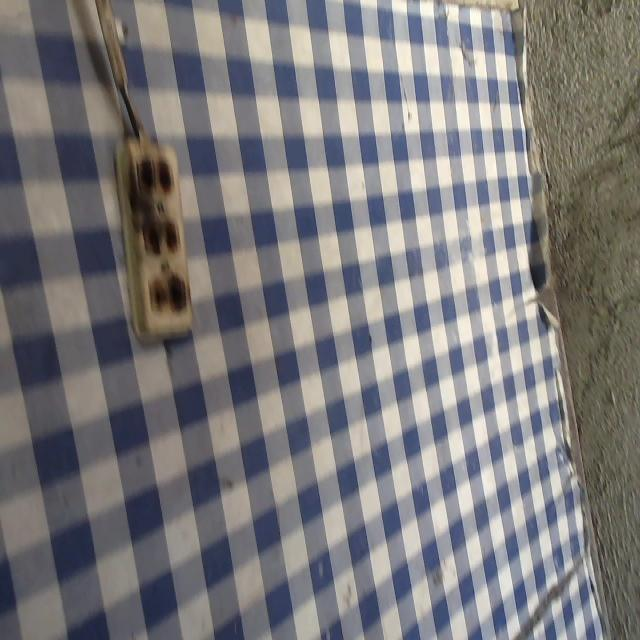-: (141, 271, 190, 321), (132, 152, 174, 197), (141, 218, 179, 258)
